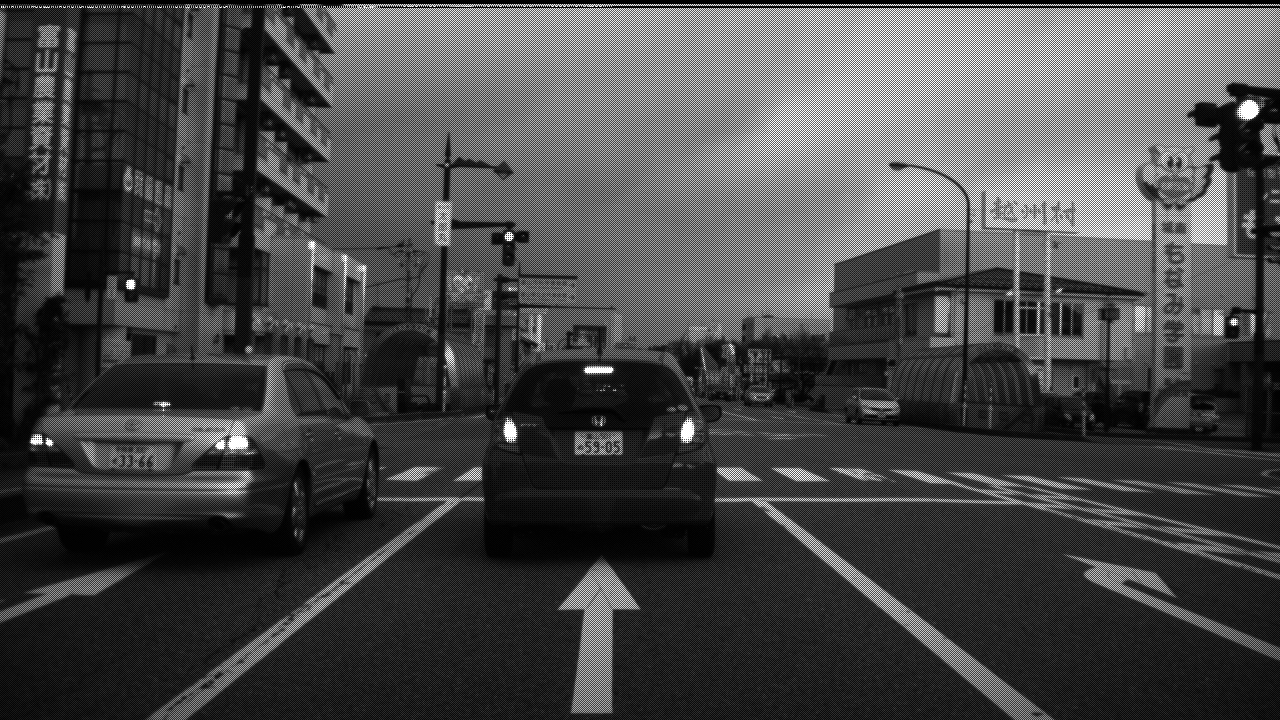pole: (435, 123, 451, 405), (961, 173, 970, 416), (493, 265, 502, 397)
